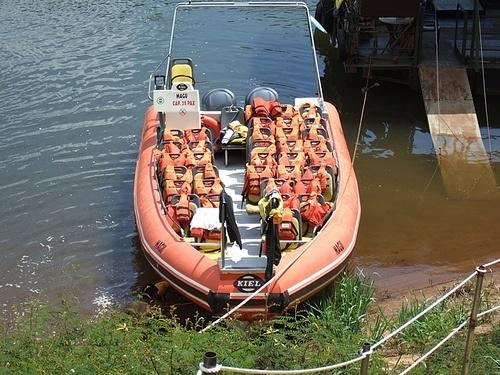boat: (129, 81, 369, 325)
